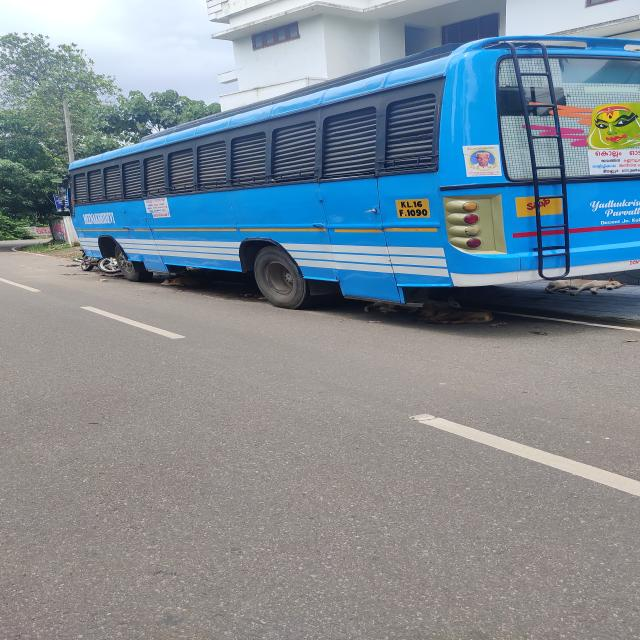Bike: (66, 240, 128, 278)
Bus: (50, 26, 640, 319)
